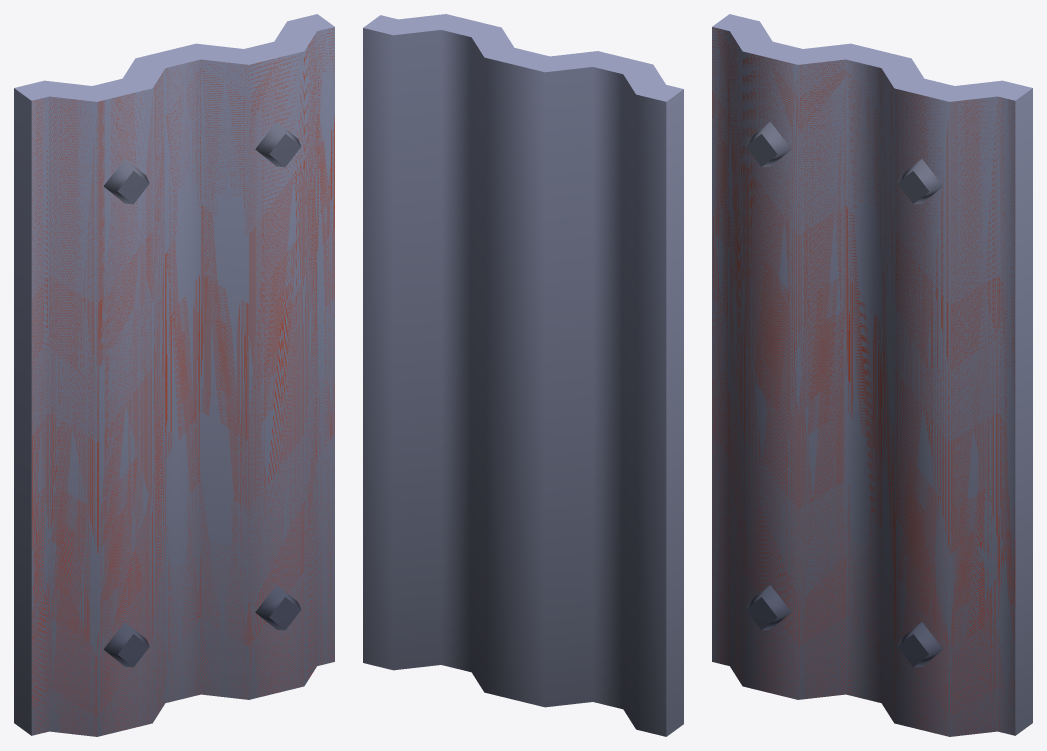
Rendered from metal-panel-screws-narrow.glb.
The picture shows the model from 3 angles, left to right: view 1: azimuth 30°, elevation 25°; view 2: azimuth 150°, elevation 25°; view 3: azimuth 330°, elevation 25°; orthographic projection.
Parts seen in each view (by area): view 1: metal-panel-screws-narrow; view 2: metal-panel-screws-narrow; view 3: metal-panel-screws-narrow.
Boxes of the visible parts, x1,y1,x2,y2 form: metal-panel-screws-narrow: (14, 14, 334, 736); metal-panel-screws-narrow: (363, 14, 683, 736); metal-panel-screws-narrow: (712, 14, 1032, 736).
Size of the model in its own units: 0.25 by 0.5 by 0.0625.
